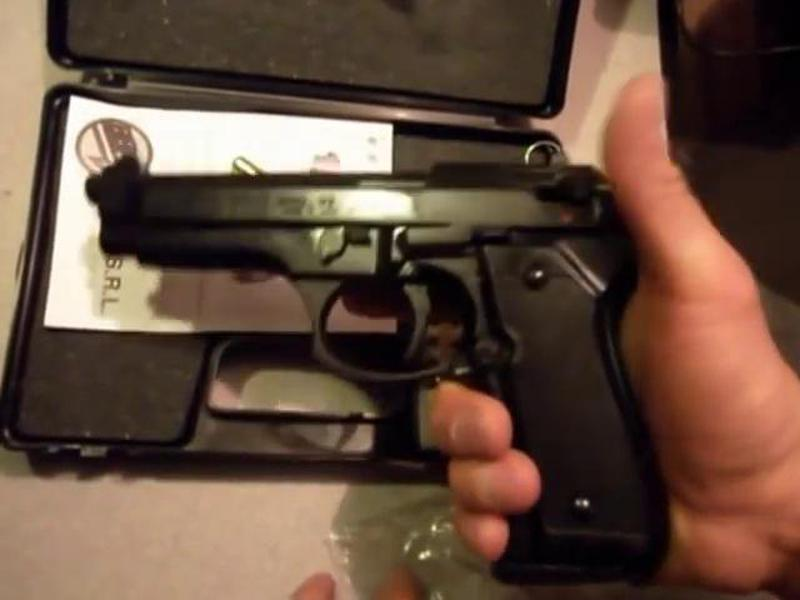Pistola: (92, 150, 711, 572)
